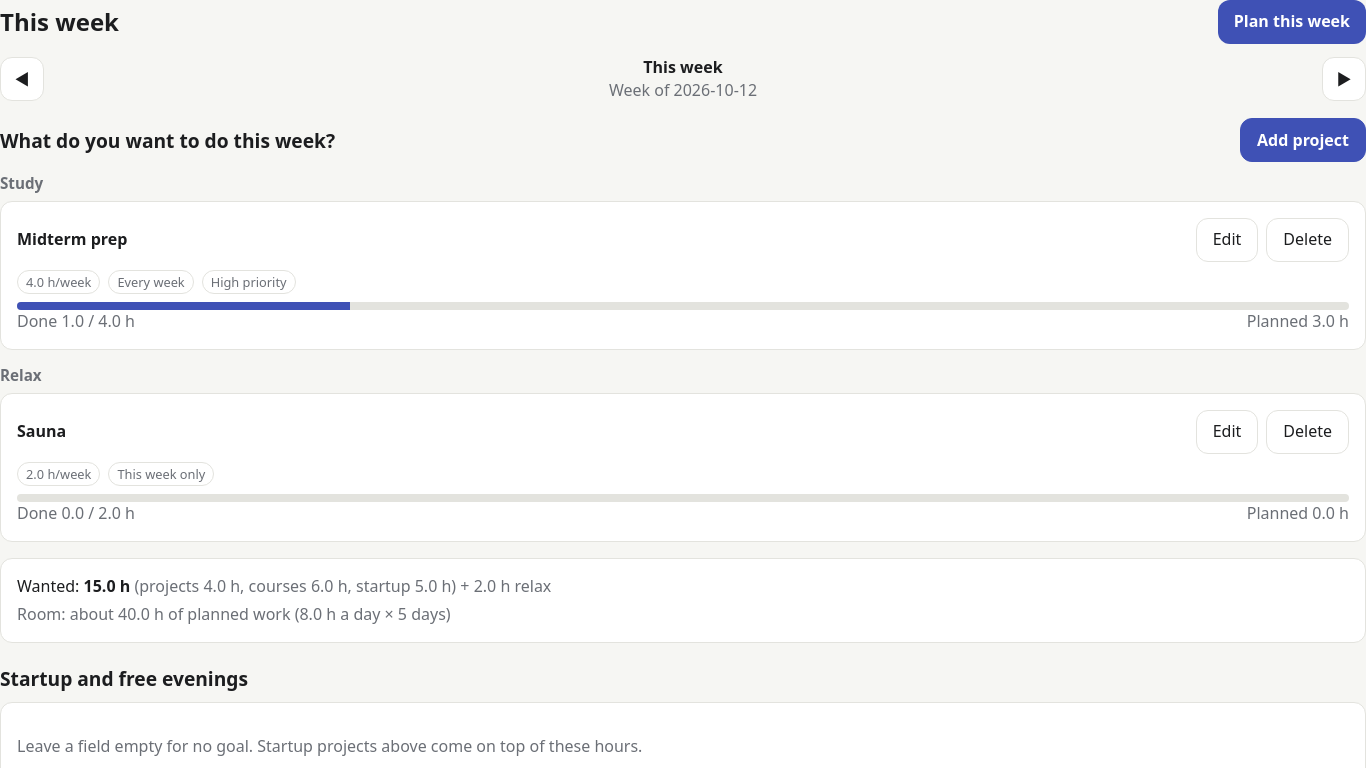
Scenario: shows server field errors in the form
Expected: the text "Midterm prep" is shown, x1=17 y1=228 x2=127 y2=250
Click the button "Add project". click: [1303, 140]
box: x1=1240 y1=118 x2=1365 y2=162
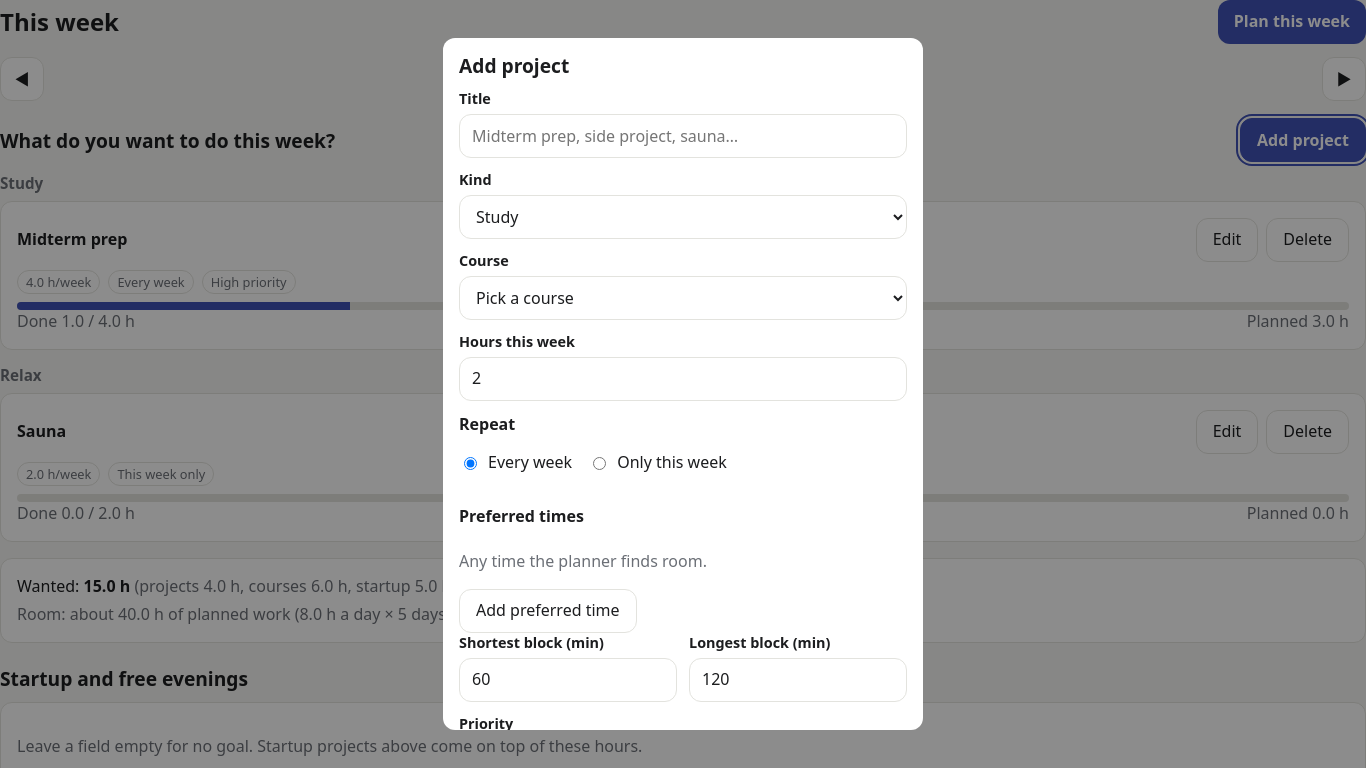
Type "Exam" into the field labelled "Title". click: [683, 136]
box: x1=459 y1=114 x2=907 y2=158
(page scrolled)
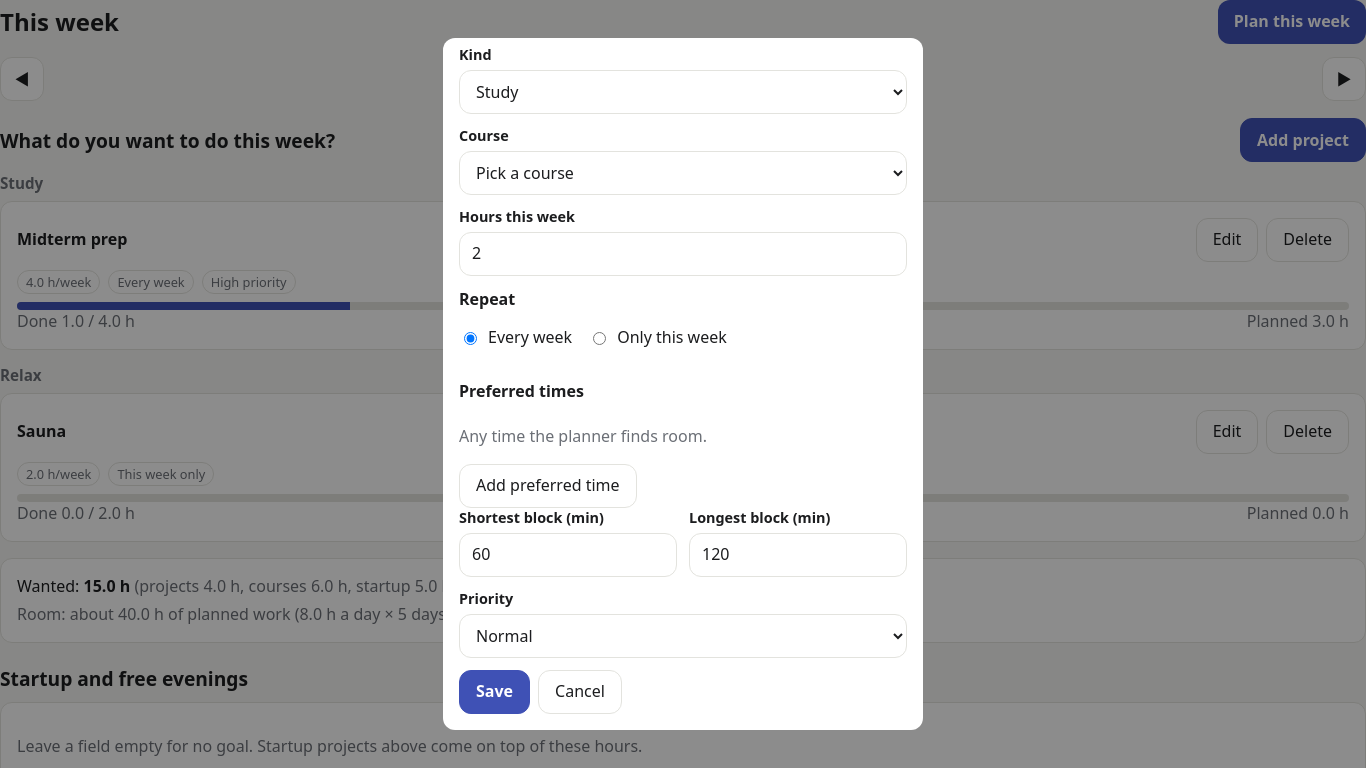
Click the button "Save". click: [494, 692]
box: x1=459 y1=670 x2=530 y2=714
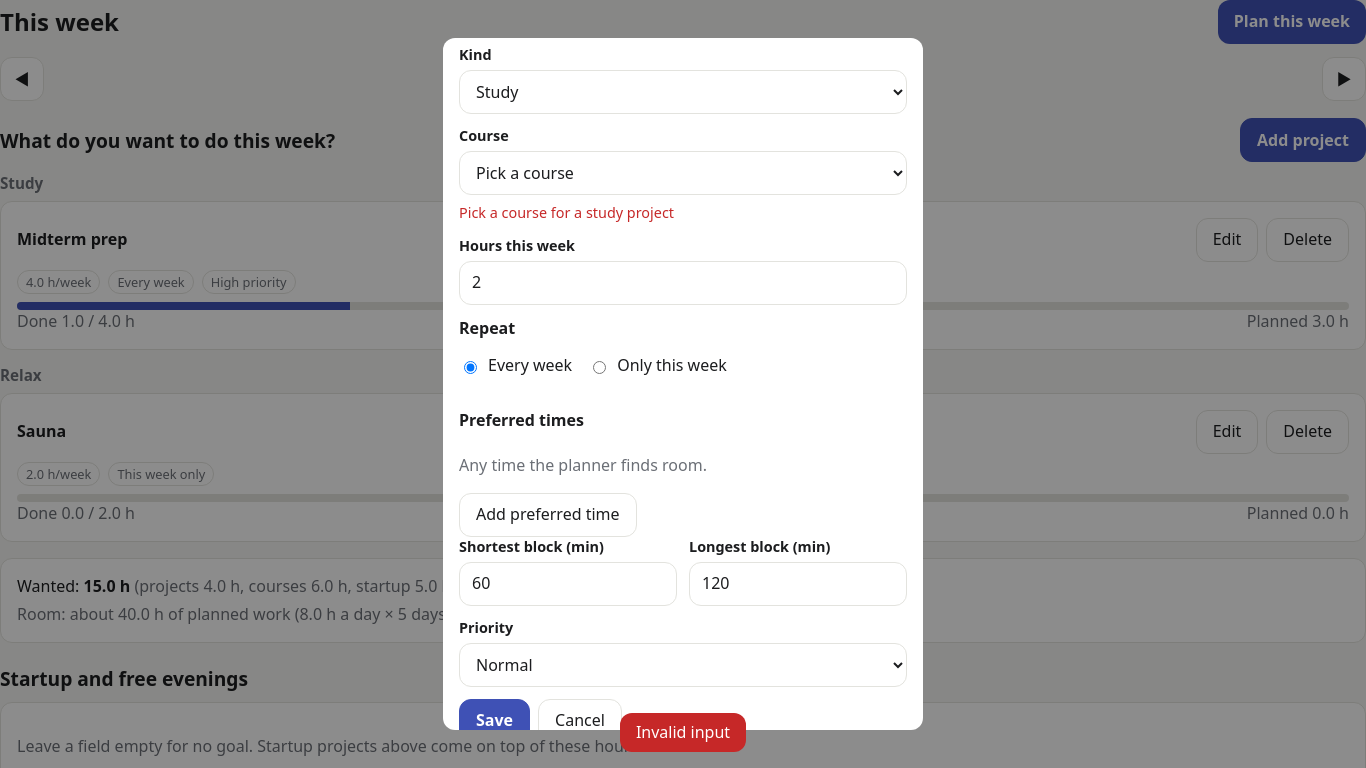
Expected: the text "Pick a course for a study project" is shown, x1=459 y1=203 x2=674 y2=222
